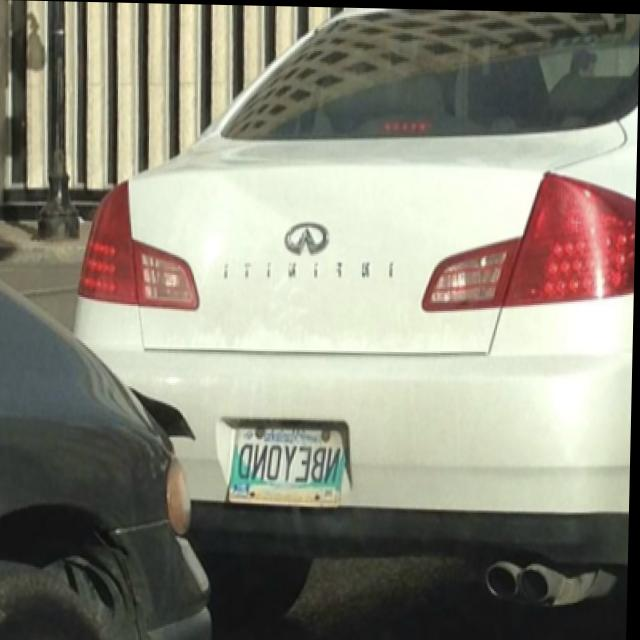licence: (230, 426, 352, 498)
